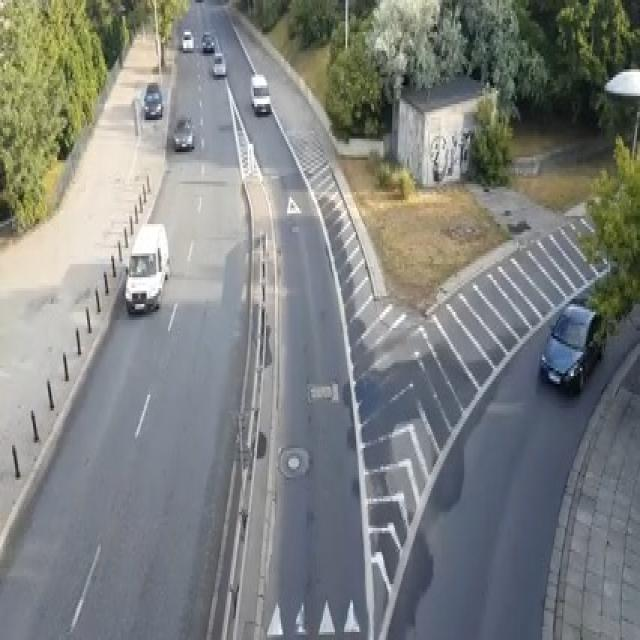car: (540, 301, 602, 395), (250, 72, 270, 115), (173, 115, 194, 149), (143, 83, 162, 117), (212, 50, 225, 74), (182, 29, 194, 51), (202, 29, 214, 51)
truck: (123, 221, 170, 315)
